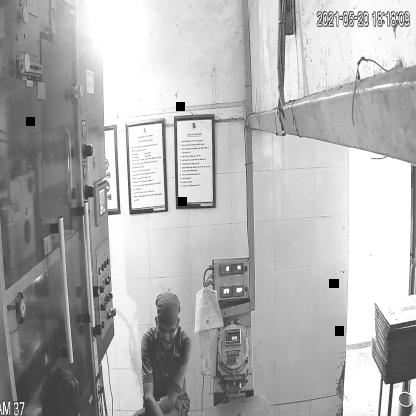goggles: (153, 314, 181, 340)
